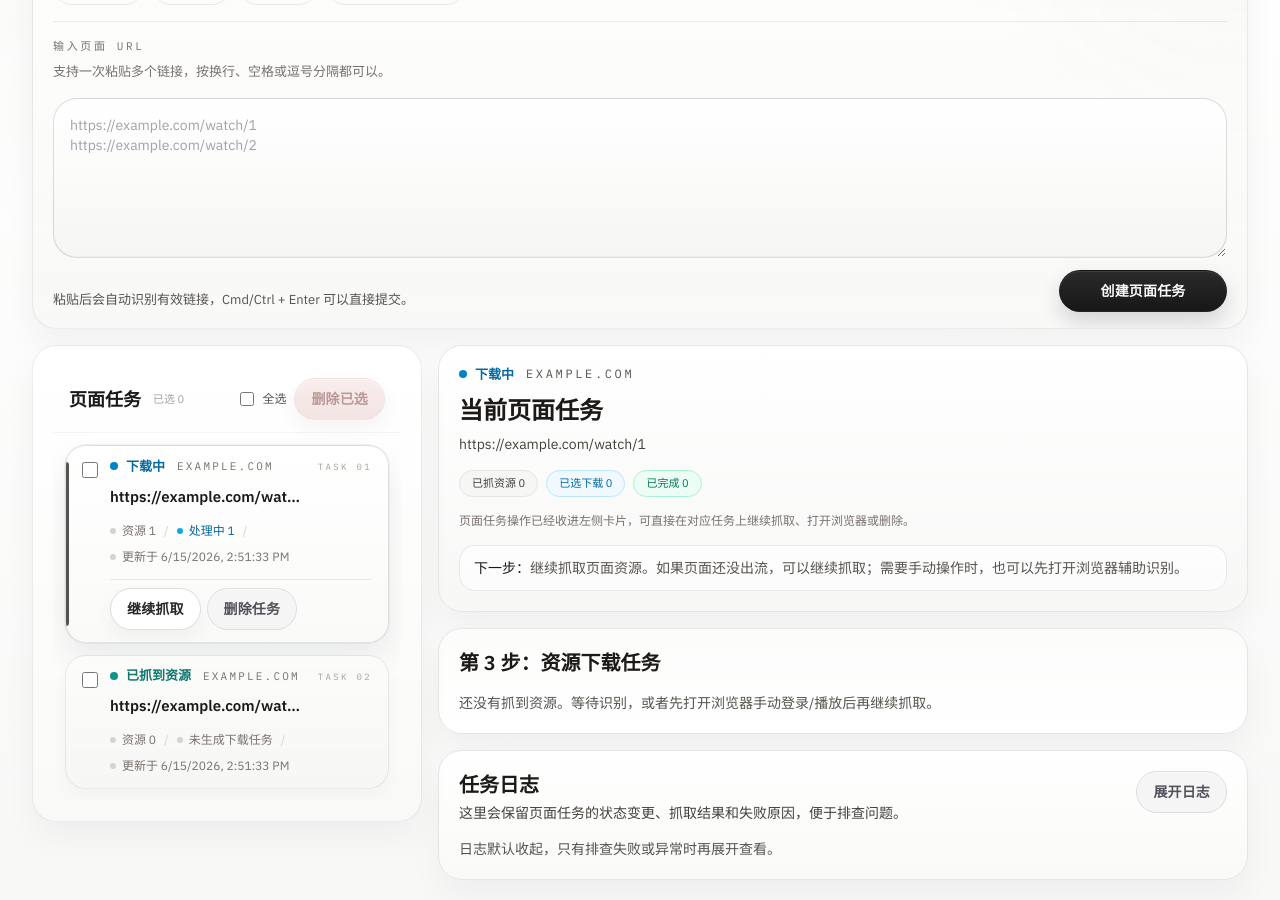
Test: App › keeps download center progress available after switching page tasks
The width and height of the screenshot is (1280, 900).
(page scrolled)
Click the text "https://example.com/watch/2" at (208, 706), box [110,694,306,718]
(page scrolled)
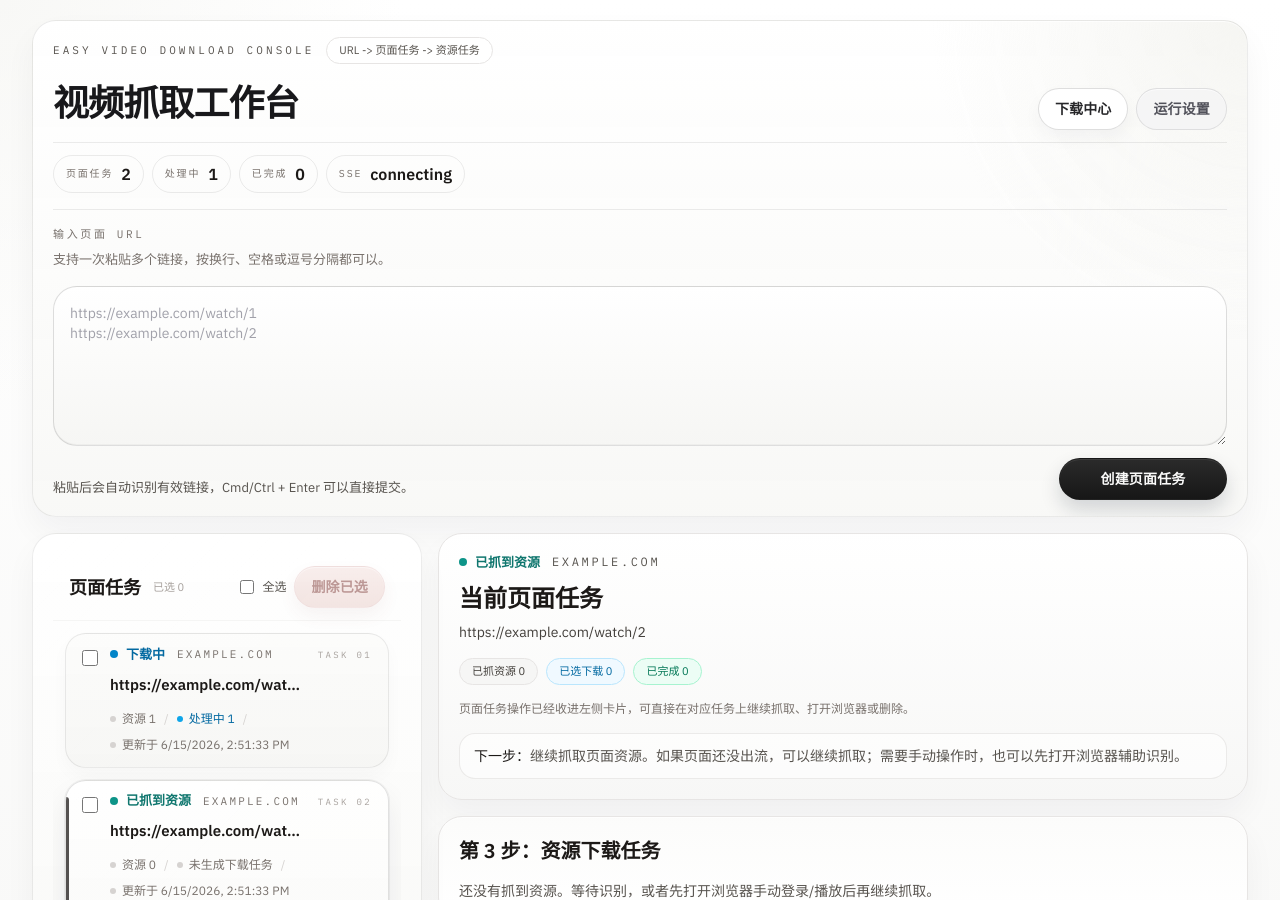
Click the button "下载中心" at (1083, 108), box [1038,88,1128,130]
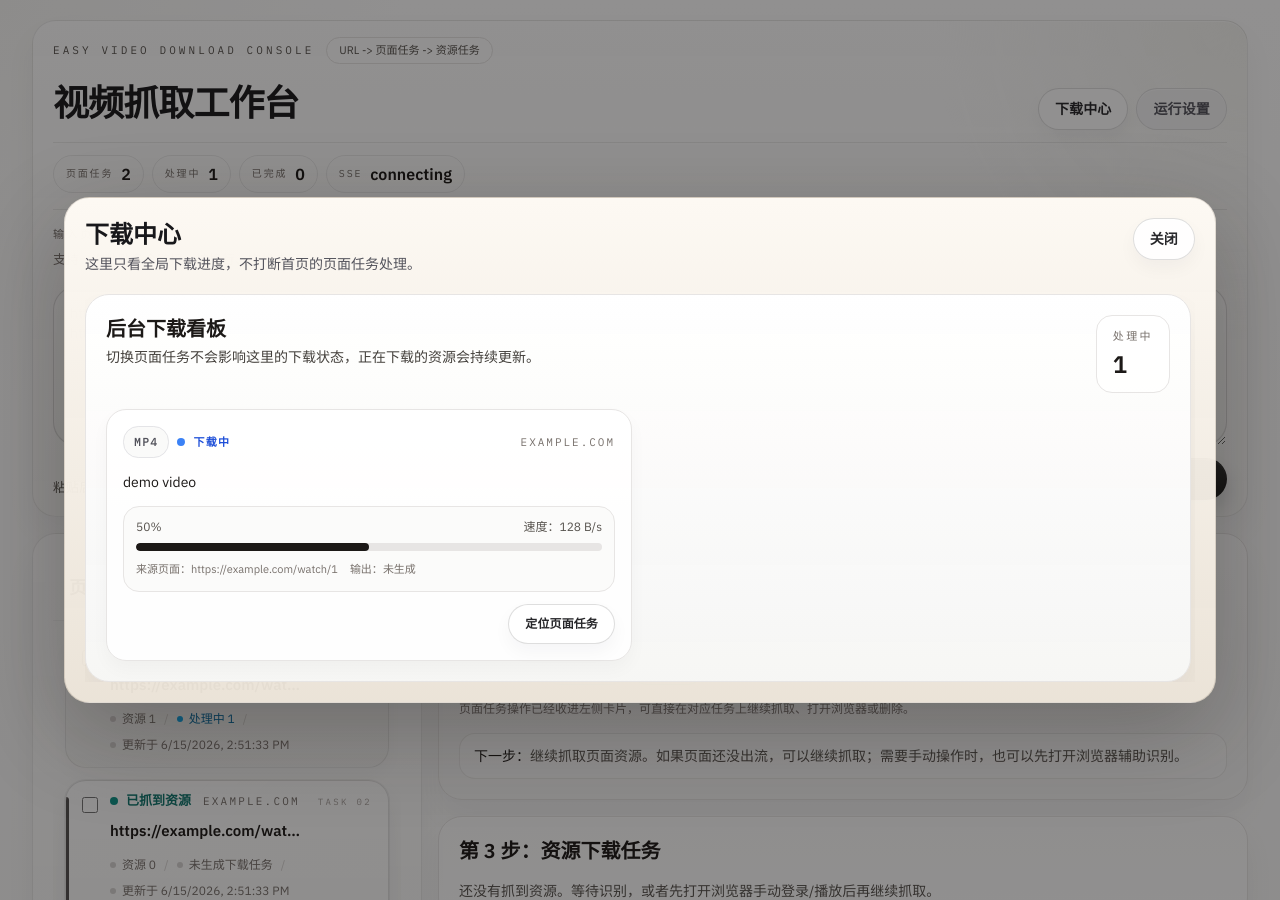
Result: the heading "后台下载看板" is shown at [106,315,226,342]
Result: the text "demo video" is shown at [123,473,196,491]
Result: the text "50%" is shown at [136,519,162,535]
